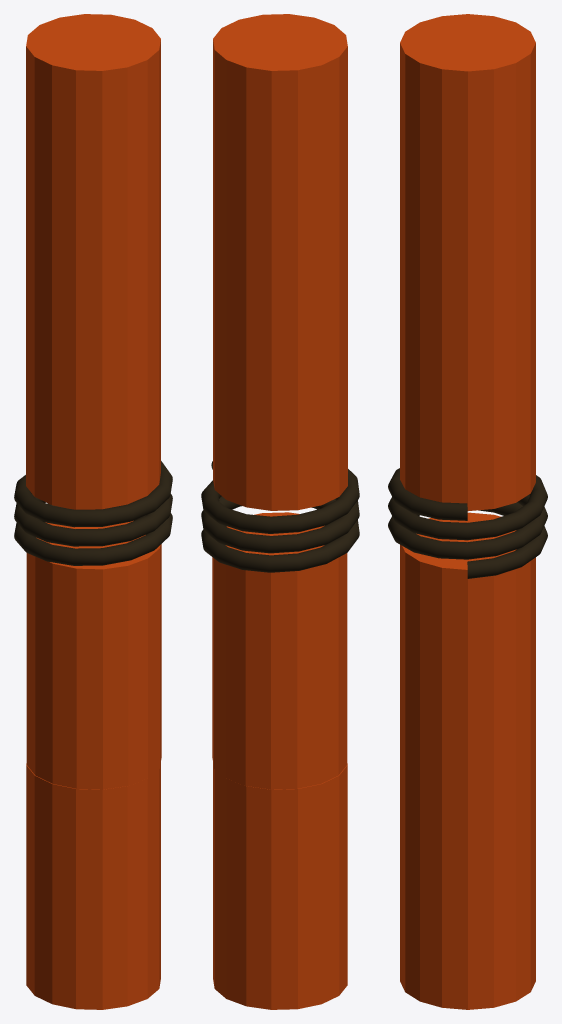
File: specimen.obj
The picture shows the model from 3 angles, left to right: view 1: azimuth 30°, elevation 25°; view 2: azimuth 150°, elevation 25°; view 3: azimuth 270°, elevation 25°; orthographic projection.
Parts seen in each view (by area): view 1: 실린더.004, 실린더.001, 실린더.003, 실린더.002, 원형; view 2: 실린더.004, 실린더.001, 실린더.003, 실린더.002, 원형; view 3: 실린더.004, 실린더.001, 실린더.003, 실린더.002, 원형.
Boxes of the visible parts, bbox=[...] form: 실린더.004: bbox=[26, 14, 160, 290]; 실린더.001: bbox=[26, 520, 161, 789]; 실린더.003: bbox=[26, 763, 160, 1009]; 실린더.002: bbox=[26, 260, 160, 509]; 원형: bbox=[14, 461, 172, 565]; 실린더.004: bbox=[213, 14, 347, 290]; 실린더.001: bbox=[212, 512, 347, 789]; 실린더.003: bbox=[213, 763, 347, 1009]; 실린더.002: bbox=[213, 260, 347, 510]; 원형: bbox=[201, 461, 359, 572]; 실린더.004: bbox=[400, 14, 535, 290]; 실린더.001: bbox=[400, 512, 535, 789]; 실린더.003: bbox=[400, 762, 535, 1009]; 실린더.002: bbox=[400, 263, 535, 511]; 원형: bbox=[388, 468, 547, 578].
Bounding box in the file's own units: 0.0165 × 0.1066 × 0.0165.
